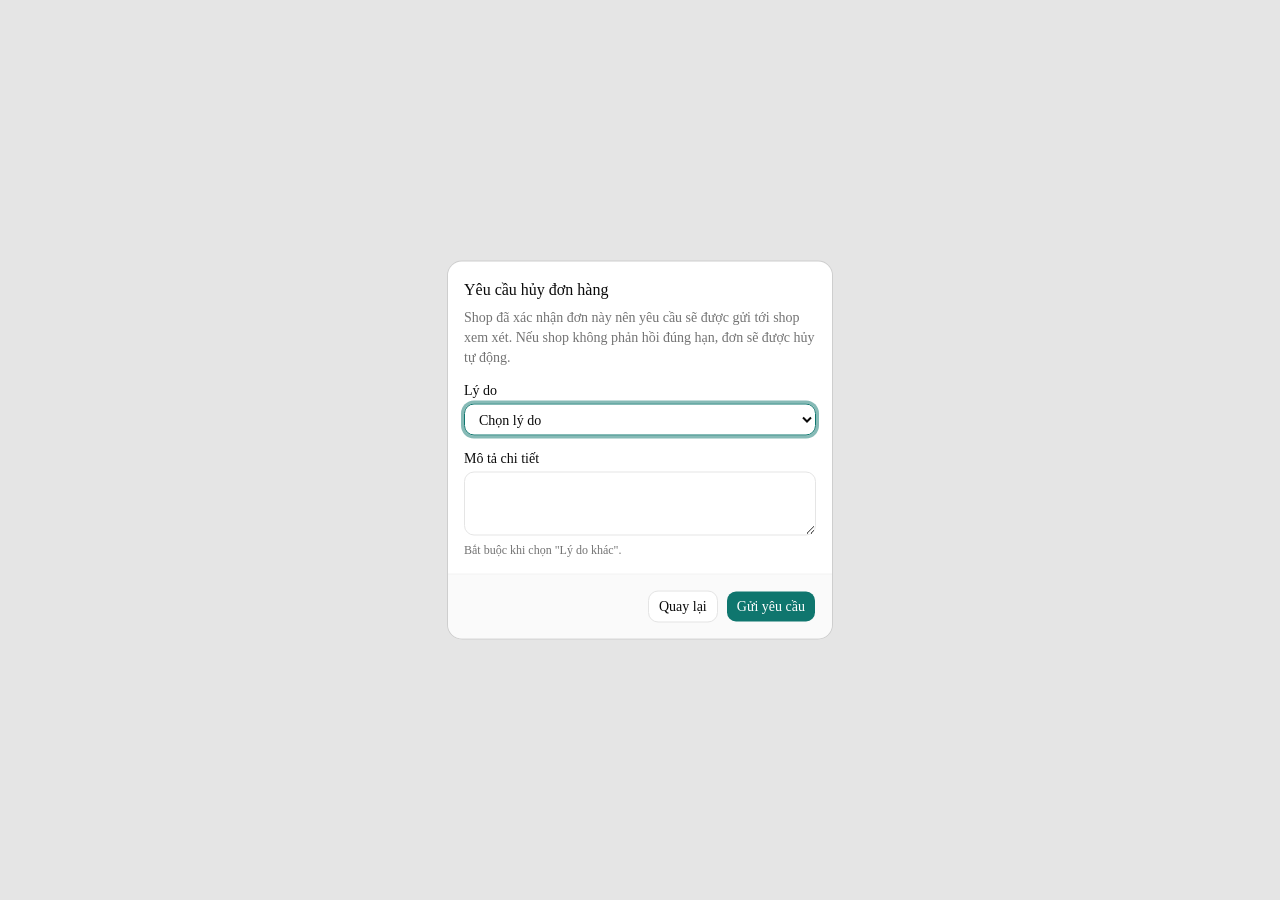
Scenario: RefundRequestDialog › gợi ý "Bắt buộc khi chọn Lý do khác" hiện mặc định và nhường chỗ cho thông báo lỗi
The image size is (1280, 900).
Expected: the text "Bắt buộc khi chọn \"Lý do khác\"." is shown, [464,542,621,556]
Select "Lý do khác" in the dropdown labelled "Lý do" at point(640, 420), box [464,404,816,436]
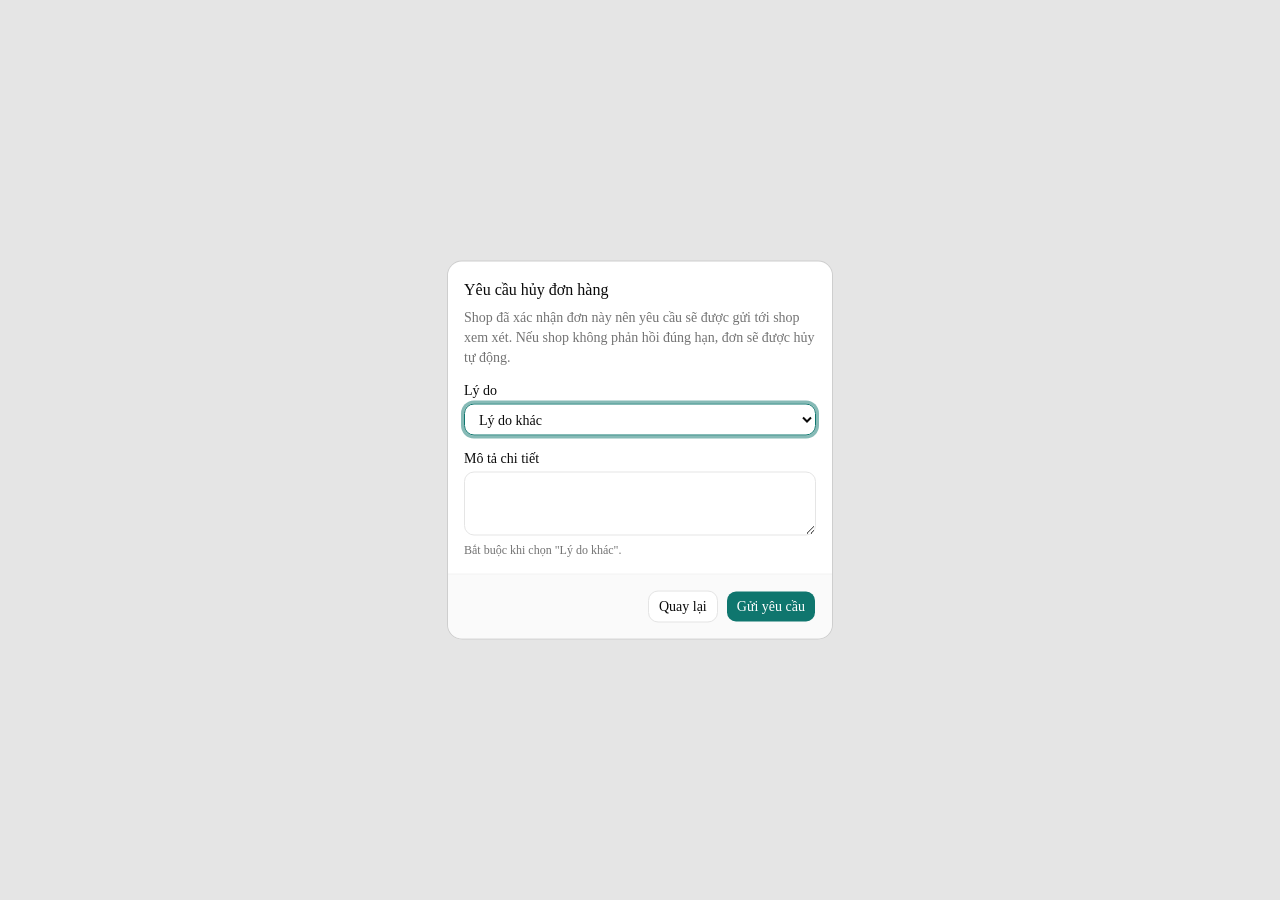
Click the button "Gửi yêu cầu" at point(771, 606), box [726,590,816,622]
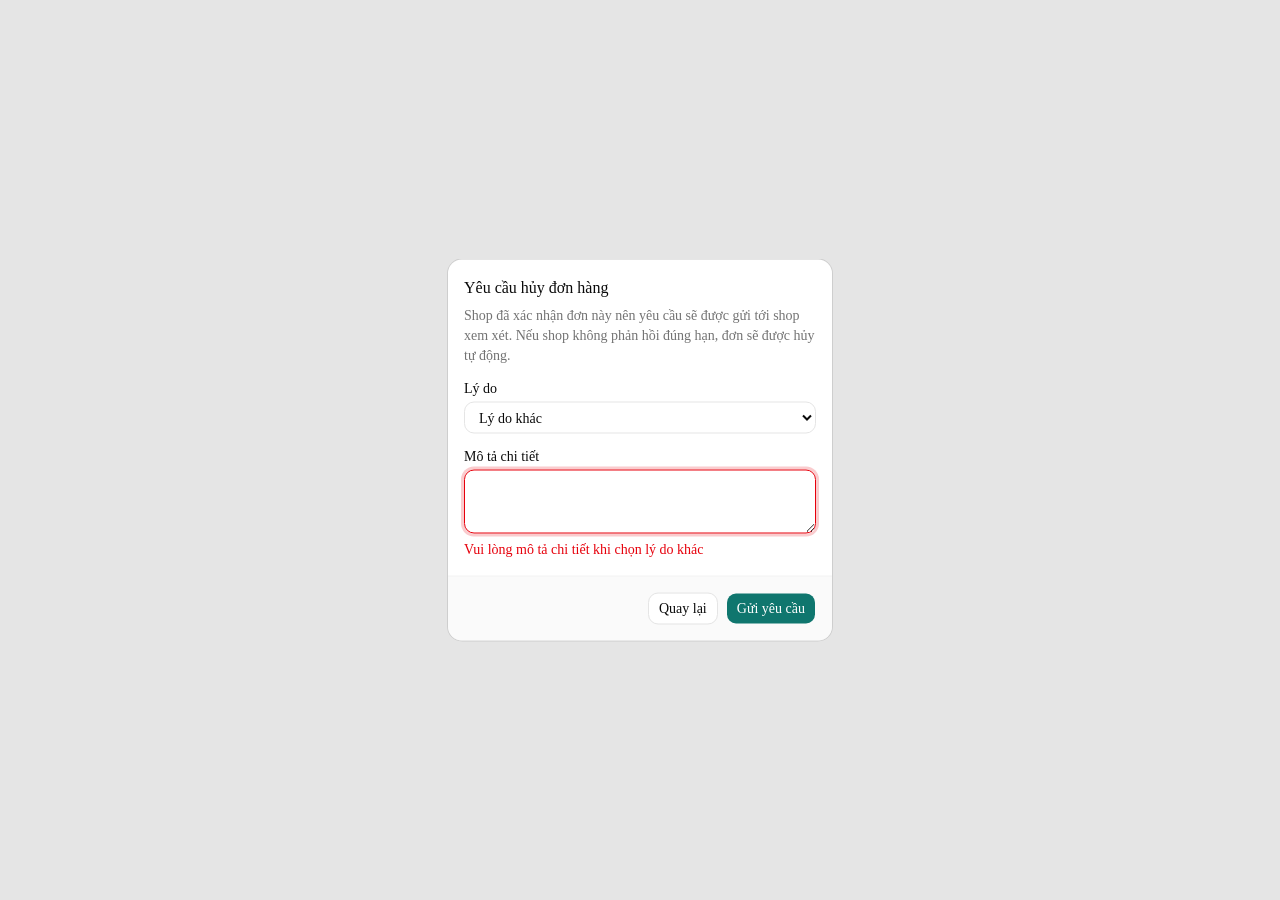
Now the text "Vui lòng mô tả chi tiết khi chọn lý do khác" is shown, box [464,542,704,556]
Now the text "Bắt buộc khi chọn" is gone
